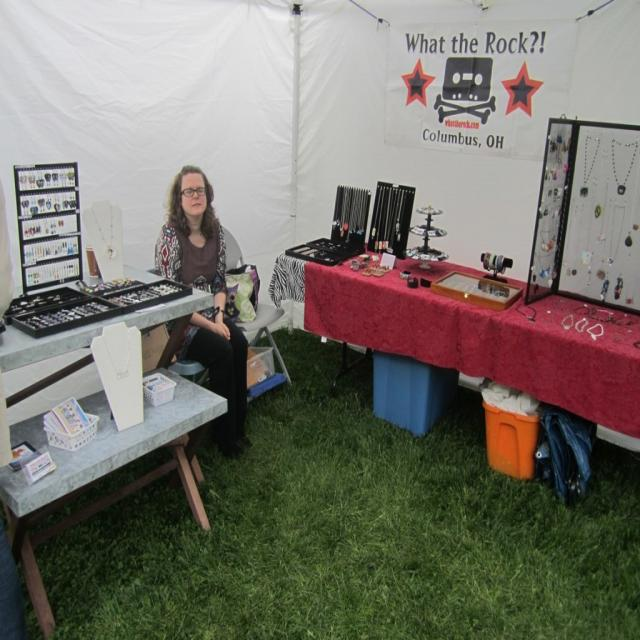desk: (268, 240, 640, 397)
person: (154, 166, 248, 457)
